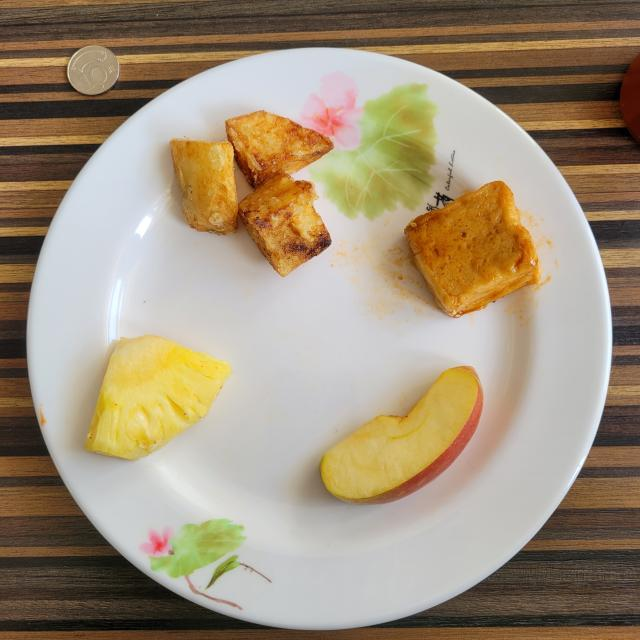apple -sliced-: (319, 366, 484, 505)
coin: (68, 45, 120, 95)
creamy tofu: (404, 181, 541, 318)
fried potato: (170, 111, 334, 276)
pineapple: (85, 335, 231, 460)
